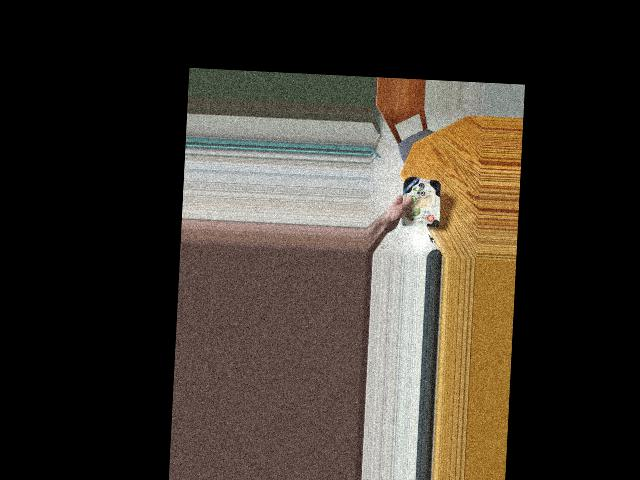cheese: (398, 176, 440, 230)
